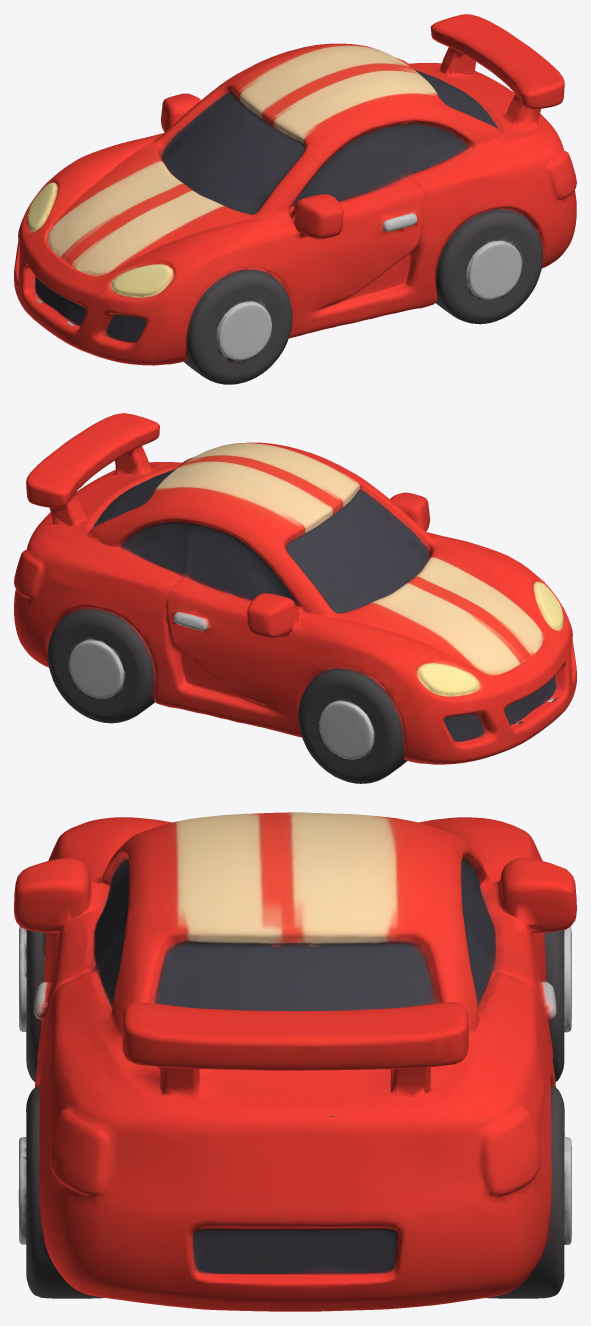
Rendered from carro 3.glb.
3 renders of one model, top to bottom at view 1: azimuth 30°, elevation 25°; view 2: azimuth 150°, elevation 25°; view 3: azimuth 270°, elevation 25°, orthographic. The views are drawn at different scales.
Visible parts, largest first — view 1: tripo_node_60218ada-42f3-4cd8-a5e8-98bdc8b8a2d2; view 2: tripo_node_60218ada-42f3-4cd8-a5e8-98bdc8b8a2d2; view 3: tripo_node_60218ada-42f3-4cd8-a5e8-98bdc8b8a2d2.
Boxes of the visible parts, x1=… form: tripo_node_60218ada-42f3-4cd8-a5e8-98bdc8b8a2d2: x1=14, y1=14, x2=576, y2=384; tripo_node_60218ada-42f3-4cd8-a5e8-98bdc8b8a2d2: x1=14, y1=413, x2=576, y2=783; tripo_node_60218ada-42f3-4cd8-a5e8-98bdc8b8a2d2: x1=14, y1=812, x2=576, y2=1311.
Size of the model in its own units: 1 by 0.4275 by 0.5719.
Materials: 1 (1 with a texture image).
